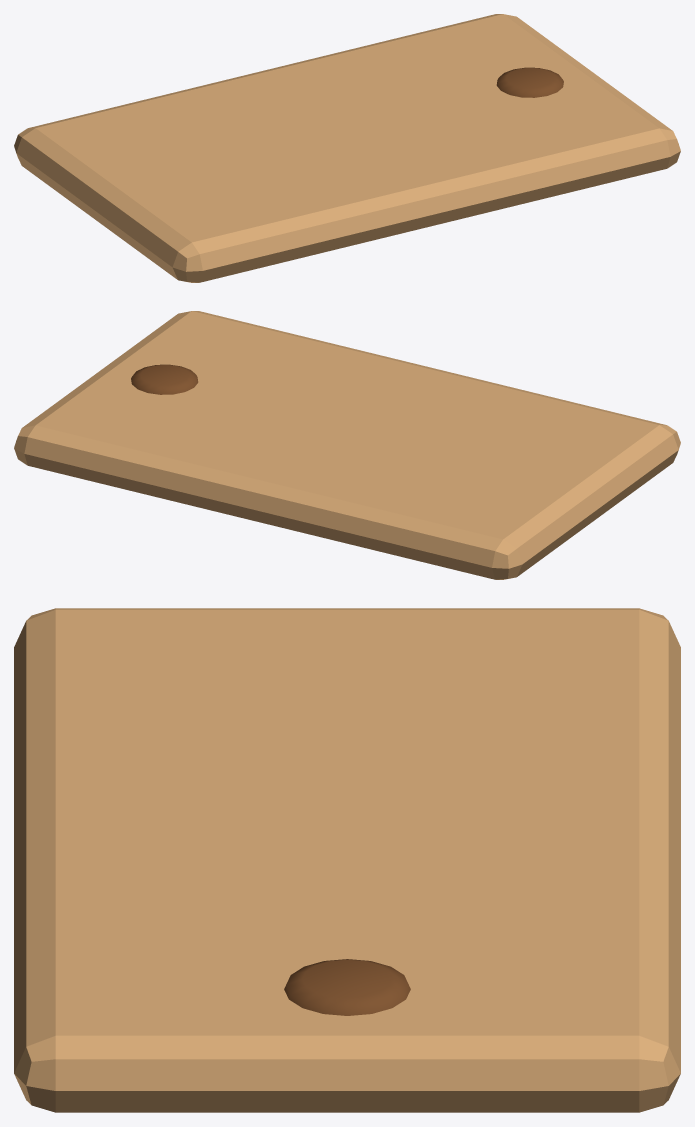
The model's file is CuttingBoard.fbx.
The picture shows the model from 3 angles, top to bottom: view 1: azimuth 30°, elevation 25°; view 2: azimuth 150°, elevation 25°; view 3: azimuth 270°, elevation 25°; orthographic projection. The views are drawn at different scales.
Parts seen in each view (by area): view 1: Board, HandleHole; view 2: Board, HandleHole; view 3: Board, HandleHole.
Boxes of the visible parts, x1,y1,x2,y2 form: Board: [14, 14, 680, 282]; HandleHole: [496, 67, 563, 97]; Board: [14, 311, 680, 579]; HandleHole: [131, 364, 198, 394]; Board: [14, 608, 680, 1112]; HandleHole: [284, 959, 410, 1015].
Size of the model in its own units: 0.72 by 0.065 by 0.44.
